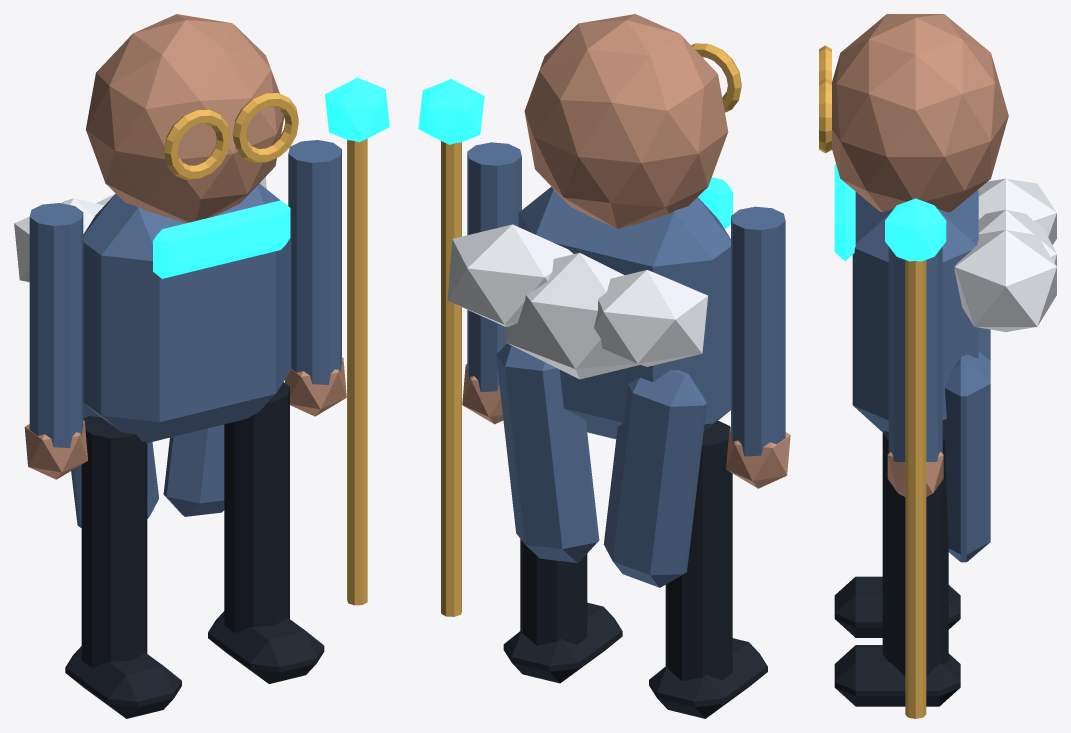
Rendered from doctor_drizzle.glb.
3 views of the same model, side by side, from view 1: azimuth 30°, elevation 25°; view 2: azimuth 150°, elevation 25°; view 3: azimuth 270°, elevation 25° (orthographic). The views are drawn at different scales.
Visible parts, largest first — view 1: DOCTOR_DRIZZLE_VISUAL; view 2: DOCTOR_DRIZZLE_VISUAL; view 3: DOCTOR_DRIZZLE_VISUAL.
Boxes of the visible parts, bbox=[...] form: DOCTOR_DRIZZLE_VISUAL: bbox=[14, 14, 389, 718]; DOCTOR_DRIZZLE_VISUAL: bbox=[418, 14, 790, 718]; DOCTOR_DRIZZLE_VISUAL: bbox=[819, 14, 1056, 718].
Size of the model in its own units: 1.35 by 2.37 by 0.7918.
